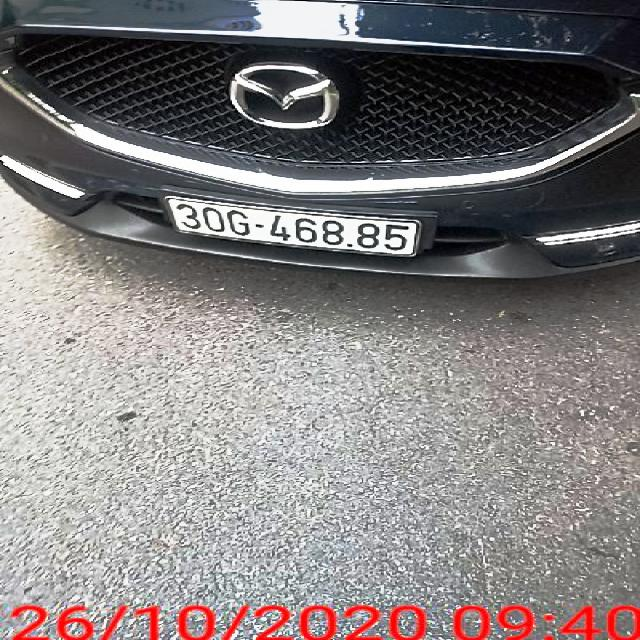license_plate: (171, 197, 417, 257)
